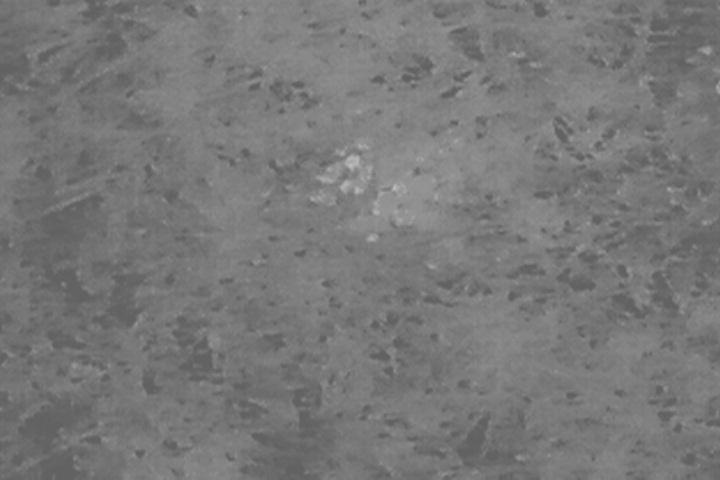landmine: (304, 122, 465, 279)
